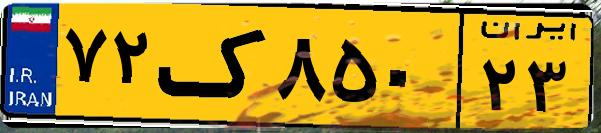0: (385, 28, 445, 110)
2: (475, 38, 525, 113), (110, 28, 158, 98)
3: (525, 38, 570, 115)
5: (330, 28, 385, 110)
7: (57, 26, 110, 100)
8: (270, 28, 330, 110)
ک: (158, 12, 270, 120)
